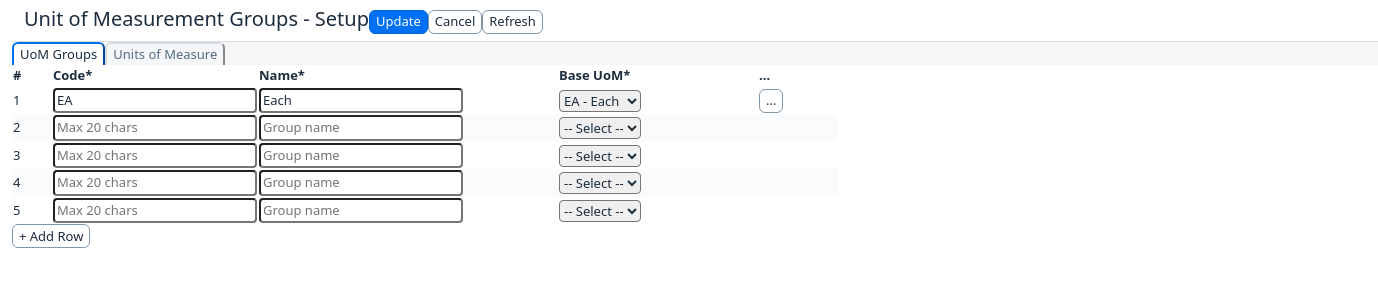
duplicate unit errors refresh the saved unit list
Expected: the field showing "Each" is shown, 259,88 -> 463,113
Click the tab "Units of Measure" at coordinates (165, 54), box 105,42 -> 225,65
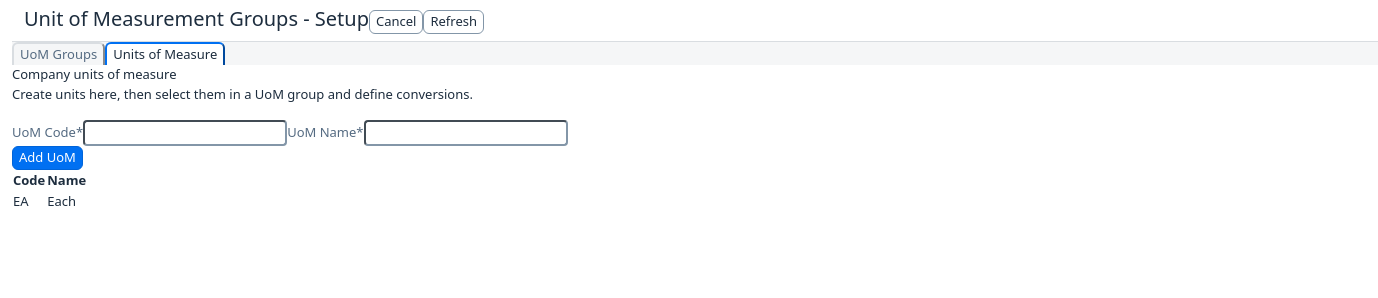
Type "KGS" into the field labelled "UoM Code*" at coordinates (185, 133), box 83,120 -> 287,146
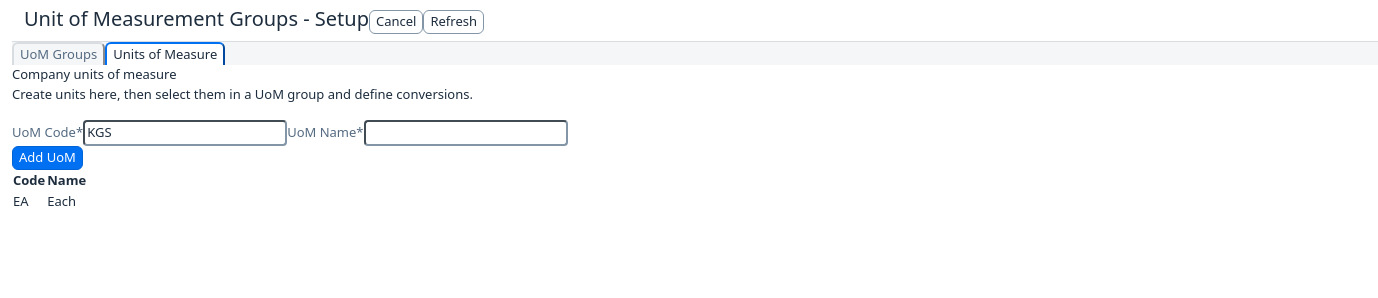
Type "Kilogram" into the field labelled "UoM Name*" at coordinates (466, 133), box 364,120 -> 568,146
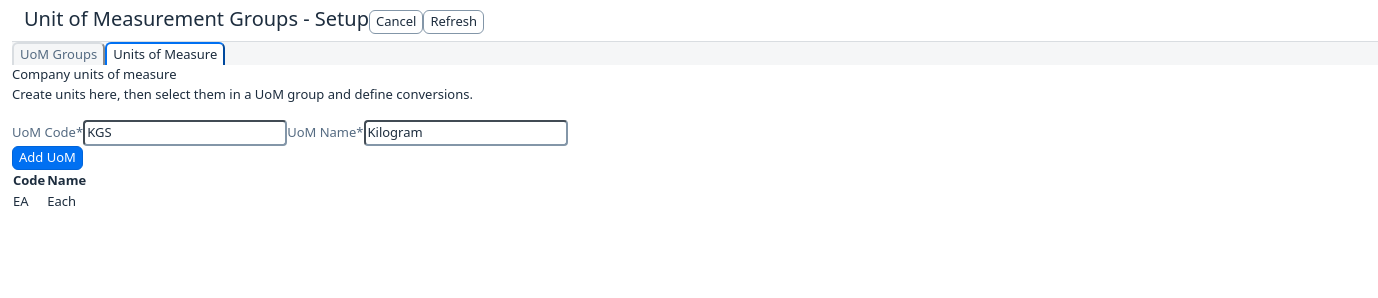
Click the button "Add UoM" at coordinates (47, 158), box 12,146 -> 83,170
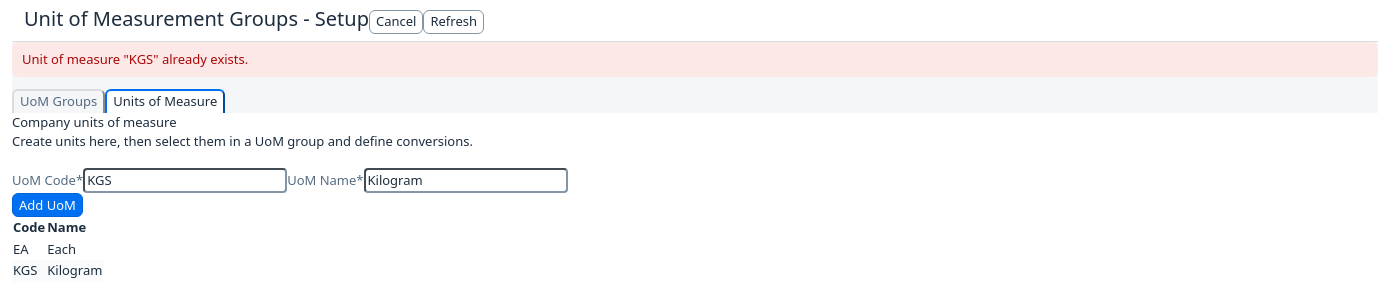
Result: the text "KGS" is shown at 12,260 -> 46,282
Result: the message shows "already exists" at 22,50 -> 248,68
